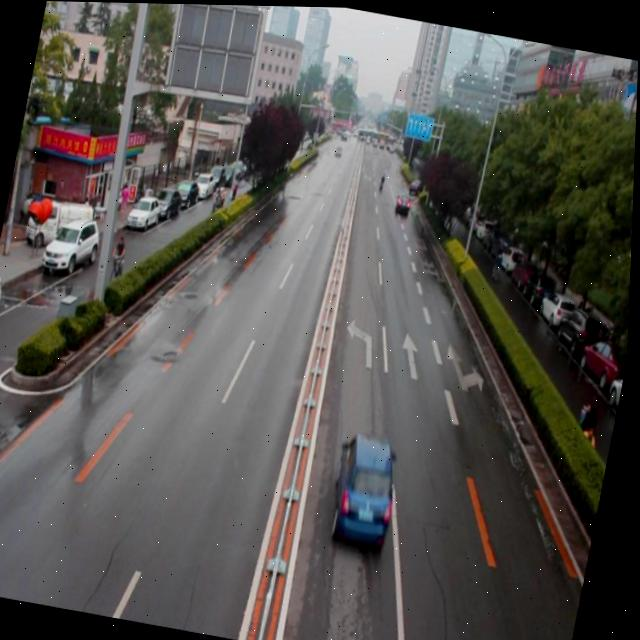car: (325, 428, 409, 550), (395, 189, 413, 212)
